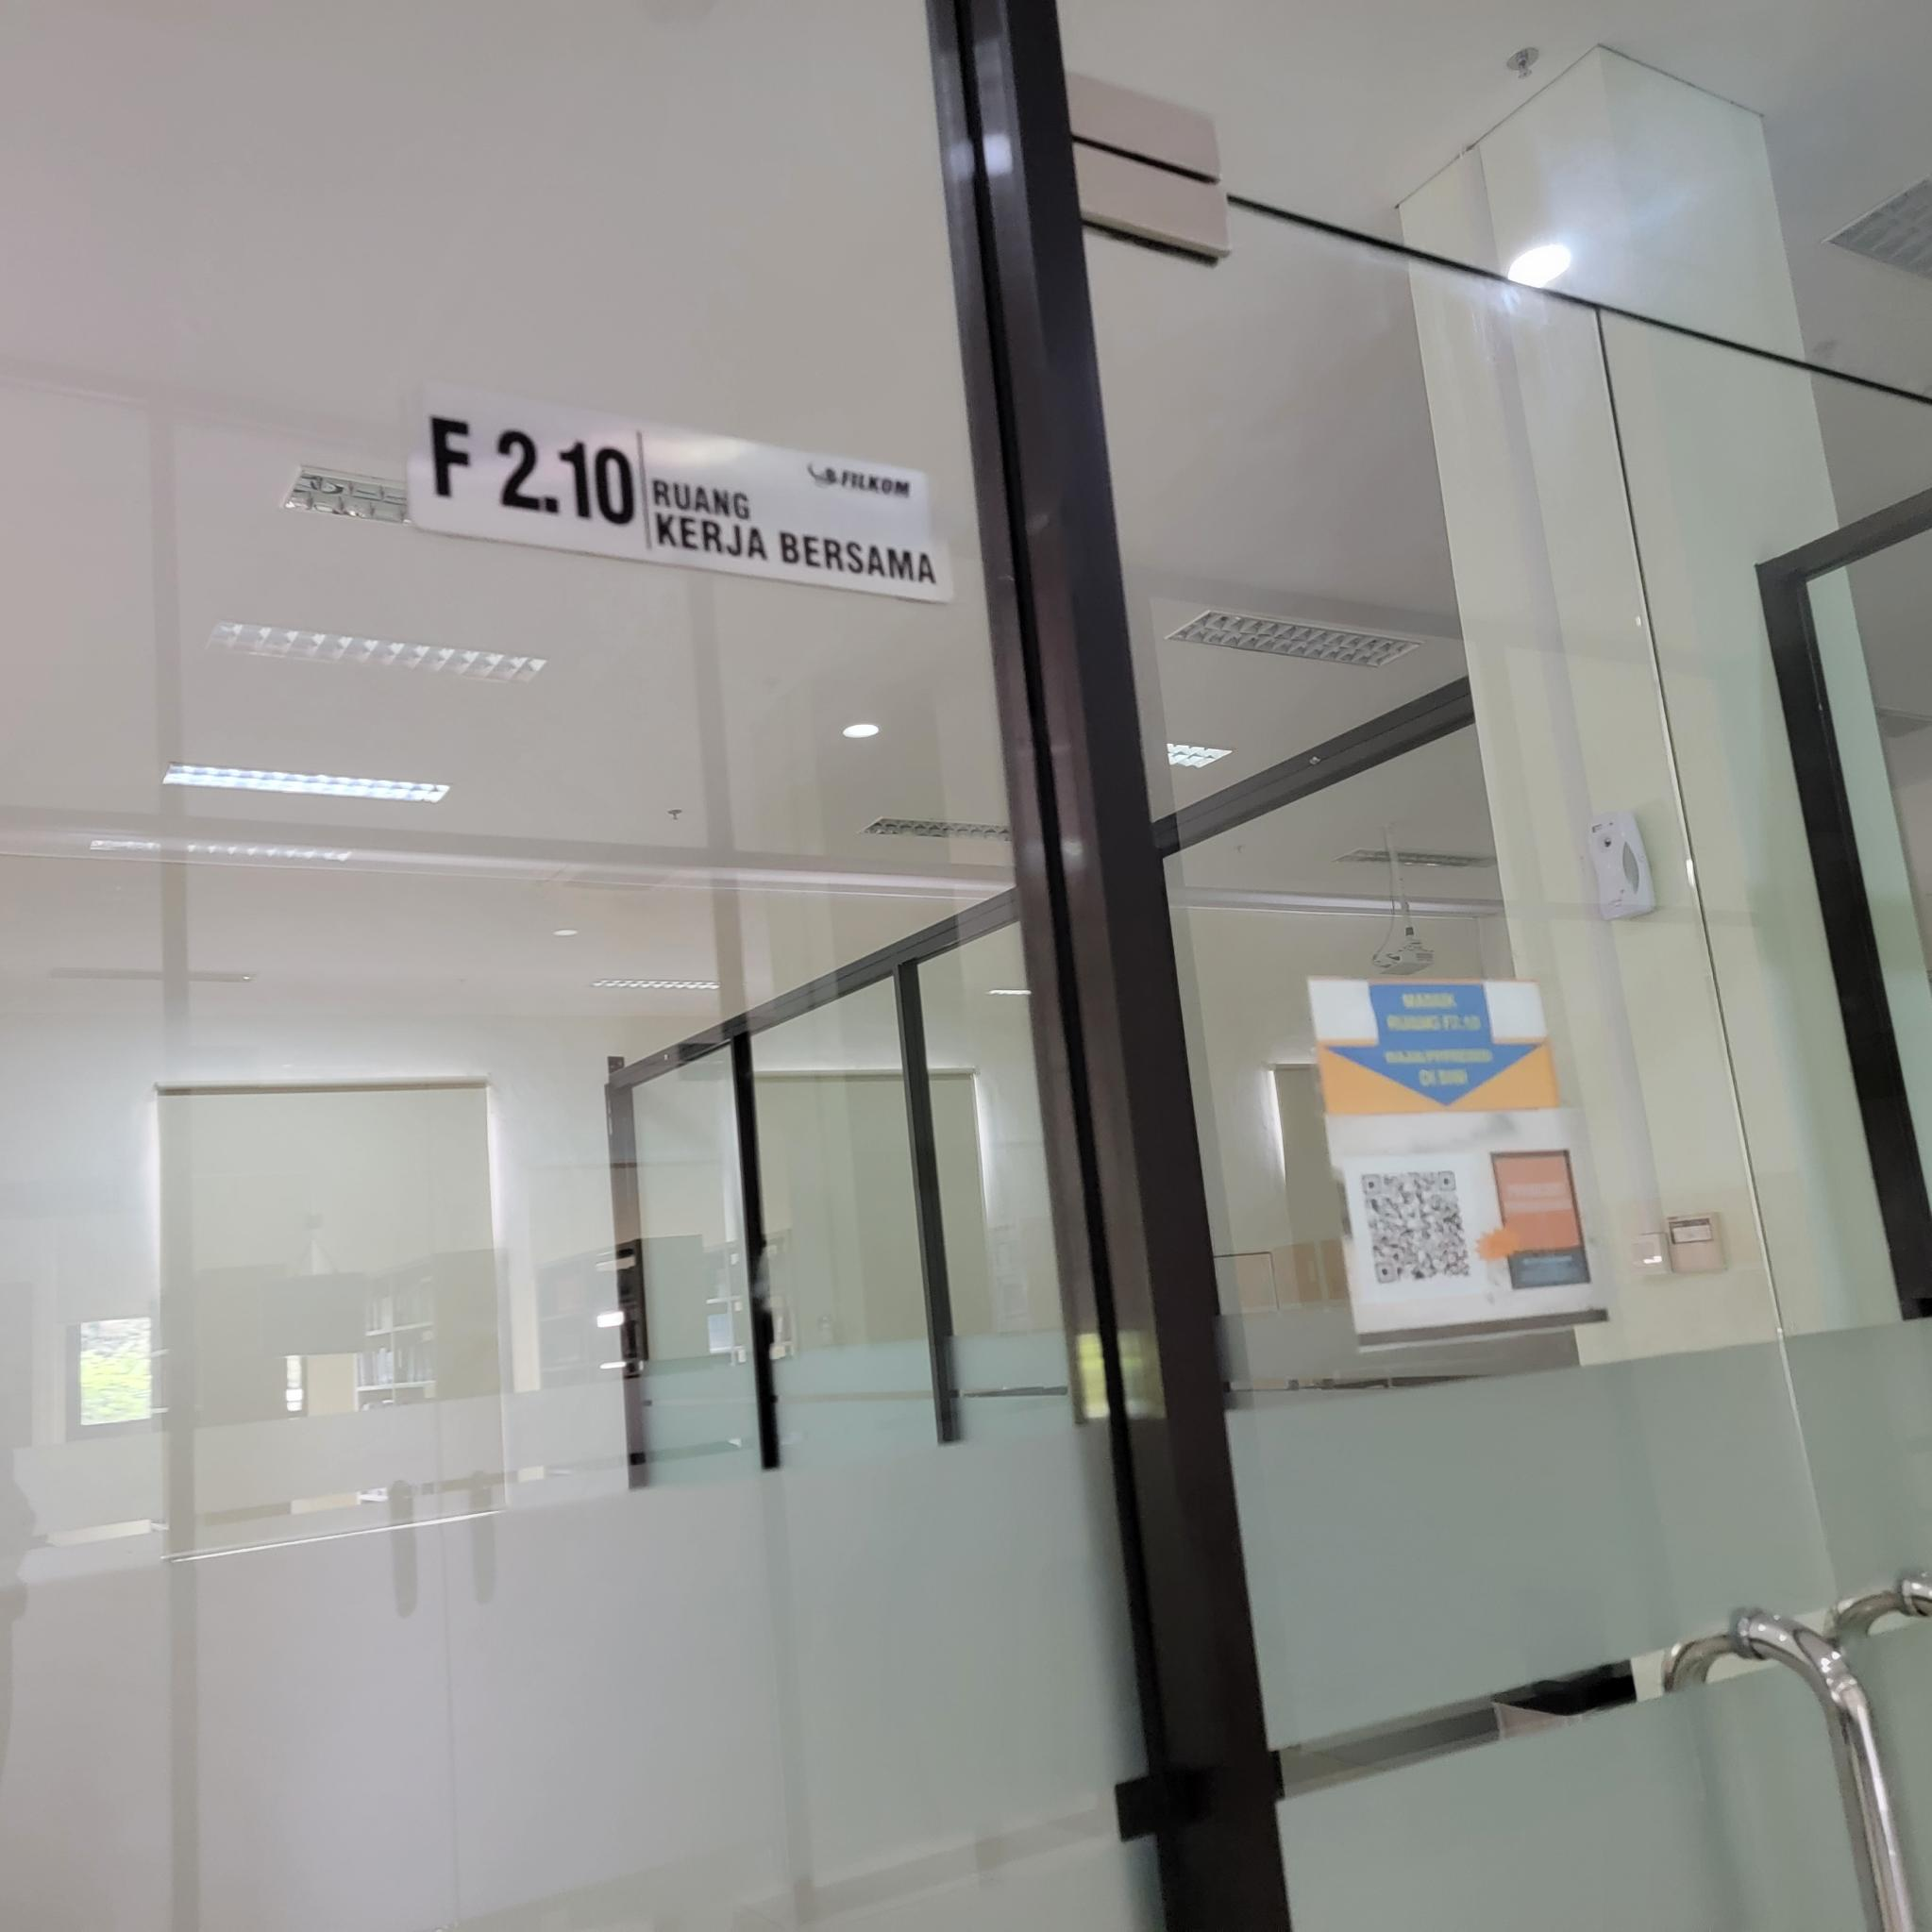plate: (398, 375, 954, 602)
